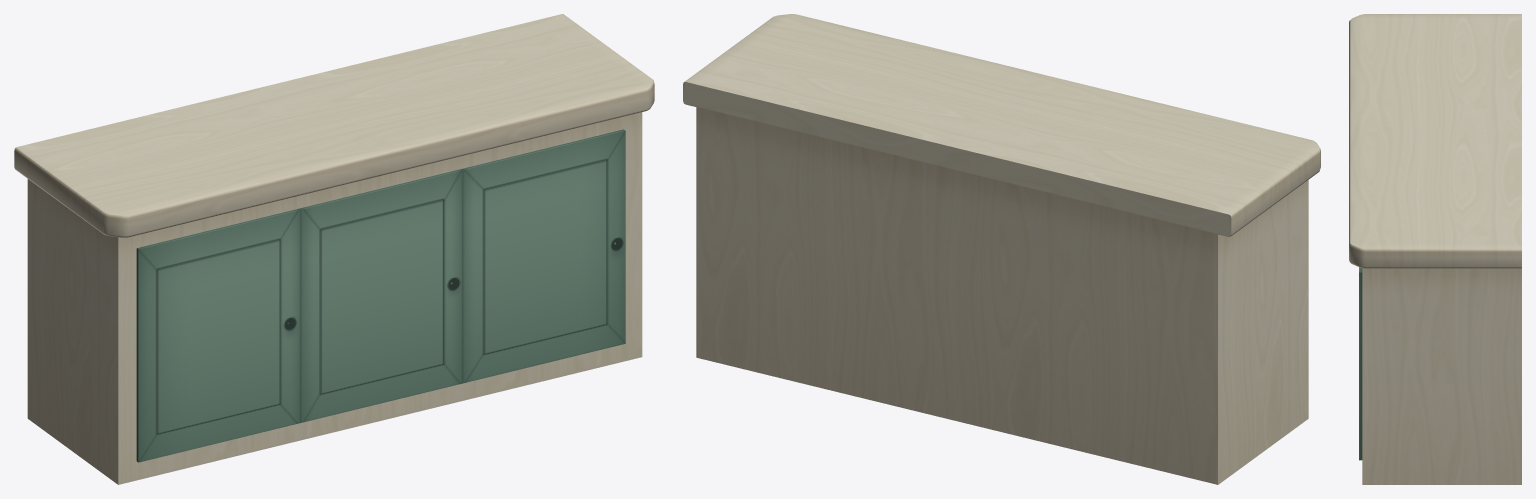
The model's file is Asset_Prop_Table.FBX.
The picture shows the model from 3 angles, left to right: view 1: azimuth 30°, elevation 25°; view 2: azimuth 150°, elevation 25°; view 3: azimuth 270°, elevation 25°; orthographic projection. The views are drawn at different scales.
Visible parts, largest first — view 1: Box001; view 2: Box001; view 3: Box001.
Part boxes in pixels (x1,y1,x2,y2): Box001: (14,14,654,484); Box001: (683,14,1320,484); Box001: (1349,14,1521,484).
Size of the model in its own units: 210 by 100 by 65.
1 material, 1 textured.
